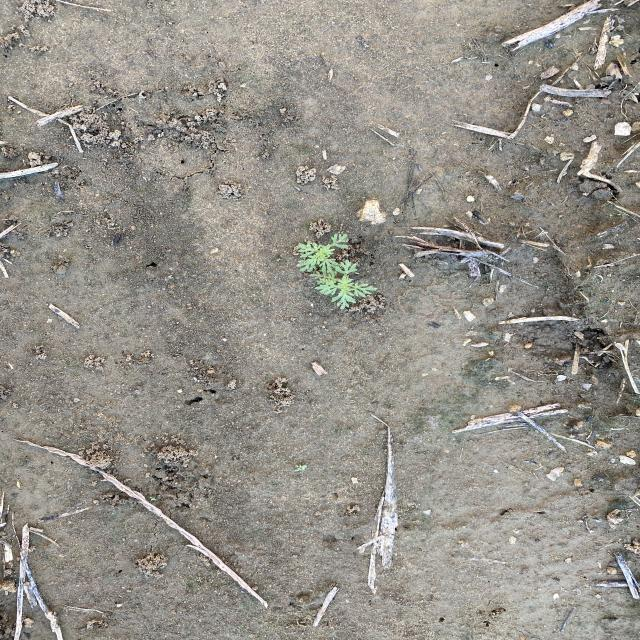Ragweed: (292, 231, 380, 311)
